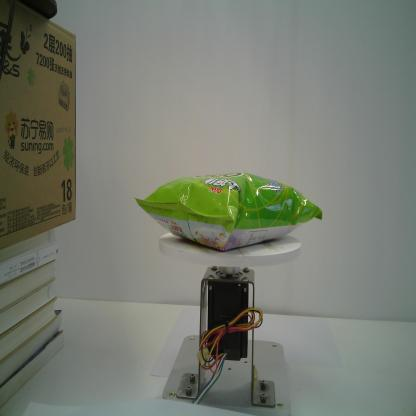Puffed Food: (132, 171, 324, 252)
